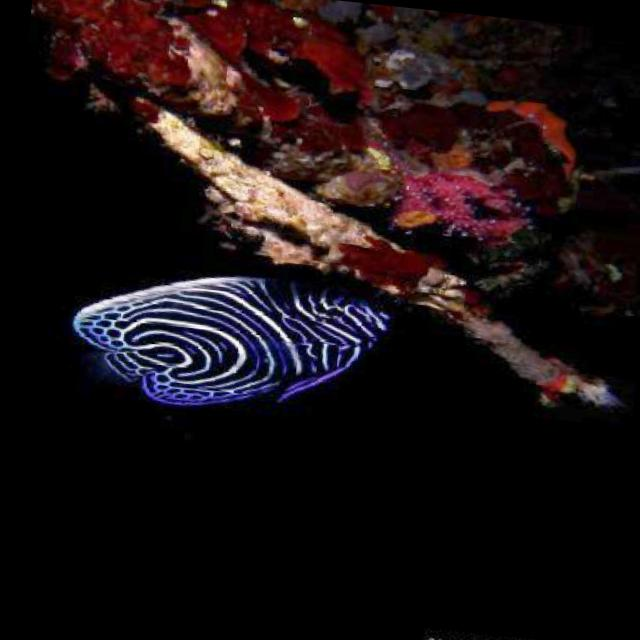AngelFish: (64, 256, 392, 428)
